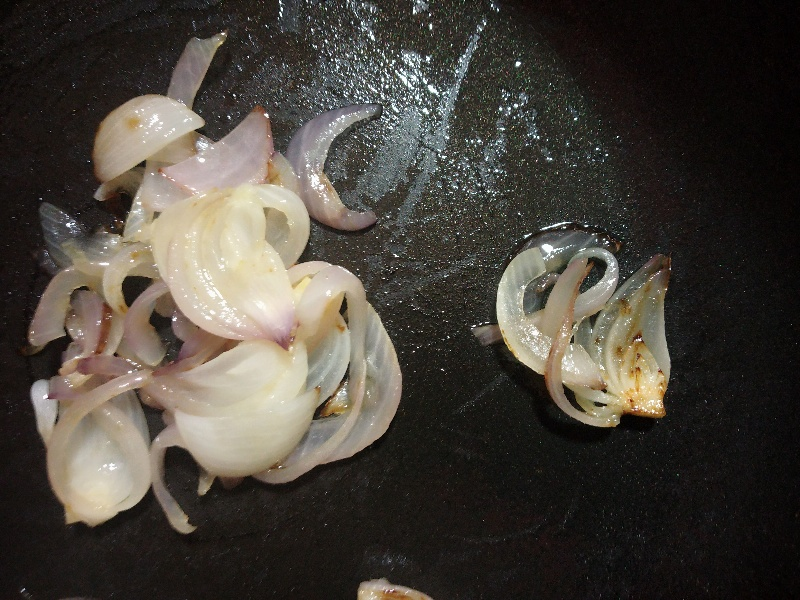onion_golden: (25, 93, 404, 530), (494, 232, 672, 429)
